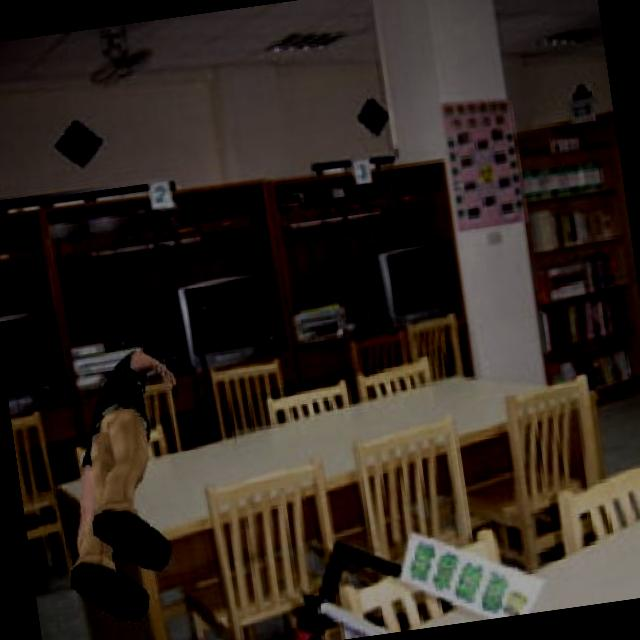Person: (36, 340, 212, 634)
